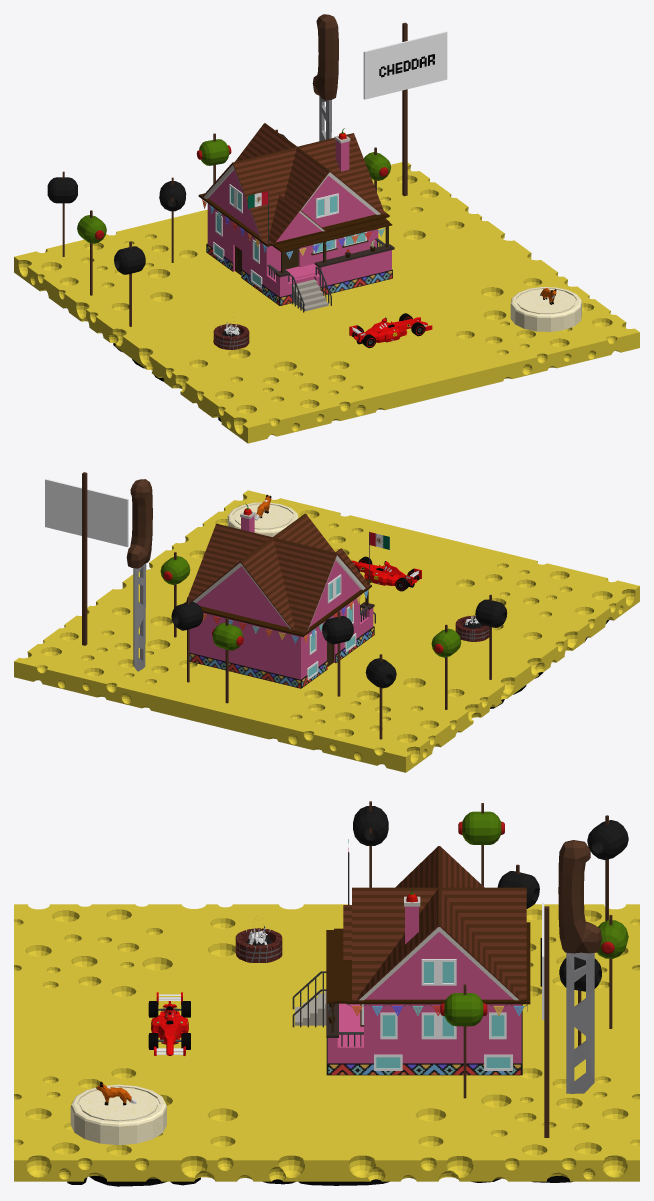
3 renders of one model, top to bottom at view 1: azimuth 30°, elevation 25°; view 2: azimuth 150°, elevation 25°; view 3: azimuth 270°, elevation 25°, orthographic. The views are drawn at different scales.
Parts seen in each view (by area): view 1: Cube.022, Cube.1005, Cube.023, Cylinder.016, Cube.024, VEHICLES_FORMULA_1, Sphere.017, Sphere.016, OBJRANDOM_CAMPFIRE, Sphere.020, Sphere.018, Sphere.022 (+1 smaller); view 2: Cube.022, Cube.1005, Cube.023, Cube.024, Cylinder.016, VEHICLES_FORMULA_1, Sphere.020, Sphere.016, Sphere.022, Sphere.017, Sphere.021, Sphere.018 (+2 smaller); view 3: Cube.022, Cube.1005, Cube.024, Cylinder.016, VEHICLES_FORMULA_1, Cube.023, Sphere.019, Sphere.016, OBJRANDOM_CAMPFIRE, Sphere.018, Curve.014, Sphere.017 (+3 smaller).
Part boxes in pixels (bbox=[...]): Cube.022: bbox=[14, 162, 639, 443]; Cube.1005: bbox=[198, 123, 394, 312]; Cube.023: bbox=[363, 22, 447, 196]; Cylinder.016: bbox=[510, 287, 581, 331]; Cube.024: bbox=[312, 14, 338, 141]; VEHICLES_FORMULA_1: bbox=[349, 313, 432, 347]; Sphere.017: bbox=[114, 241, 145, 326]; Sphere.016: bbox=[47, 171, 77, 256]; OBJRANDOM_CAMPFIRE: bbox=[213, 322, 249, 349]; Sphere.020: bbox=[159, 177, 186, 262]; Sphere.018: bbox=[77, 210, 106, 295]; Sphere.022: bbox=[196, 133, 231, 183]; Cube.022: bbox=[14, 490, 639, 772]; Cube.1005: bbox=[184, 503, 389, 688]; Cube.023: bbox=[45, 472, 128, 645]; Cube.024: bbox=[126, 479, 152, 671]; Cylinder.016: bbox=[227, 502, 298, 536]; VEHICLES_FORMULA_1: bbox=[351, 556, 421, 591]; Sphere.020: bbox=[322, 611, 353, 696]; Sphere.016: bbox=[365, 654, 396, 739]; Sphere.022: bbox=[212, 618, 243, 703]; Sphere.017: bbox=[475, 594, 507, 679]; Sphere.021: bbox=[171, 597, 203, 682]; Sphere.018: bbox=[431, 624, 461, 709]; Cube.022: bbox=[14, 904, 639, 1181]; Cube.1005: bbox=[292, 839, 530, 1075]; Cube.024: bbox=[558, 840, 602, 1093]; Cylinder.016: bbox=[70, 1084, 166, 1145]; VEHICLES_FORMULA_1: bbox=[148, 992, 190, 1055]; Cube.023: bbox=[540, 902, 549, 1137]; Sphere.019: bbox=[440, 984, 487, 1098]; Sphere.016: bbox=[587, 815, 628, 920]; OBJRANDOM_CAMPFIRE: bbox=[235, 926, 282, 962]; Sphere.018: bbox=[458, 803, 504, 886]; Curve.014: bbox=[67, 1176, 572, 1186]; Sphere.017: bbox=[353, 801, 388, 887].
Bounding box in the file's own units: 3917 × 1980 × 4000.
72 materials, 5 textured.
